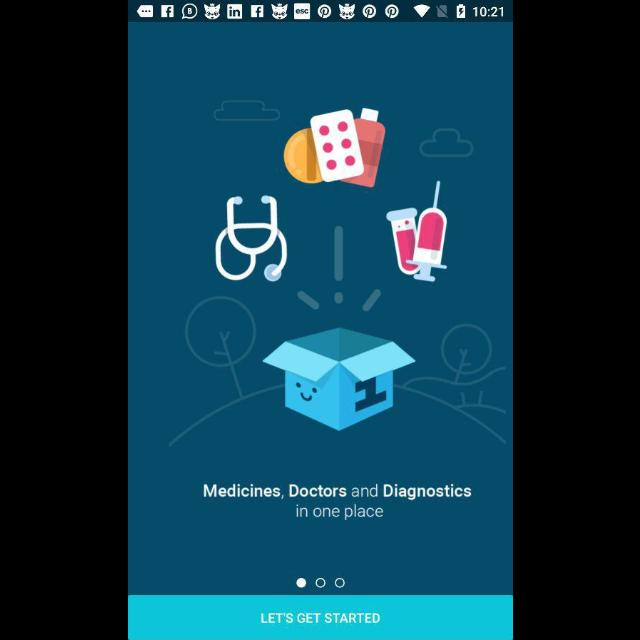image: (167, 100, 505, 448)
pageindicator: (296, 578, 344, 588)
text: (203, 484, 471, 520)
textbutton: (128, 596, 512, 640)
uppertaskbar: (128, 1, 512, 23)
